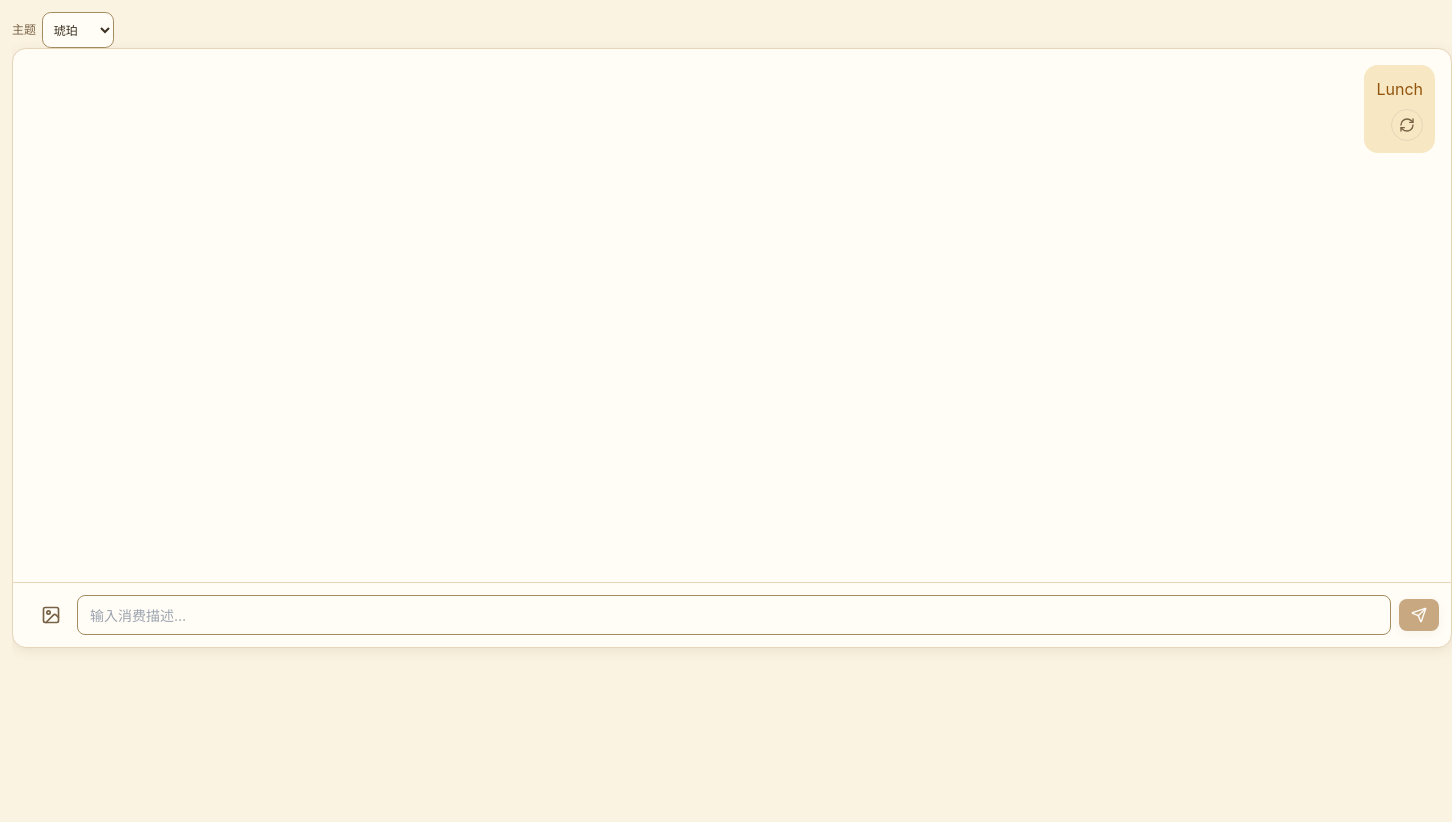
retry uses text model and still requires review confirmation
Click the button named "Retry" at (1407, 125), box [1391, 109, 1423, 141]
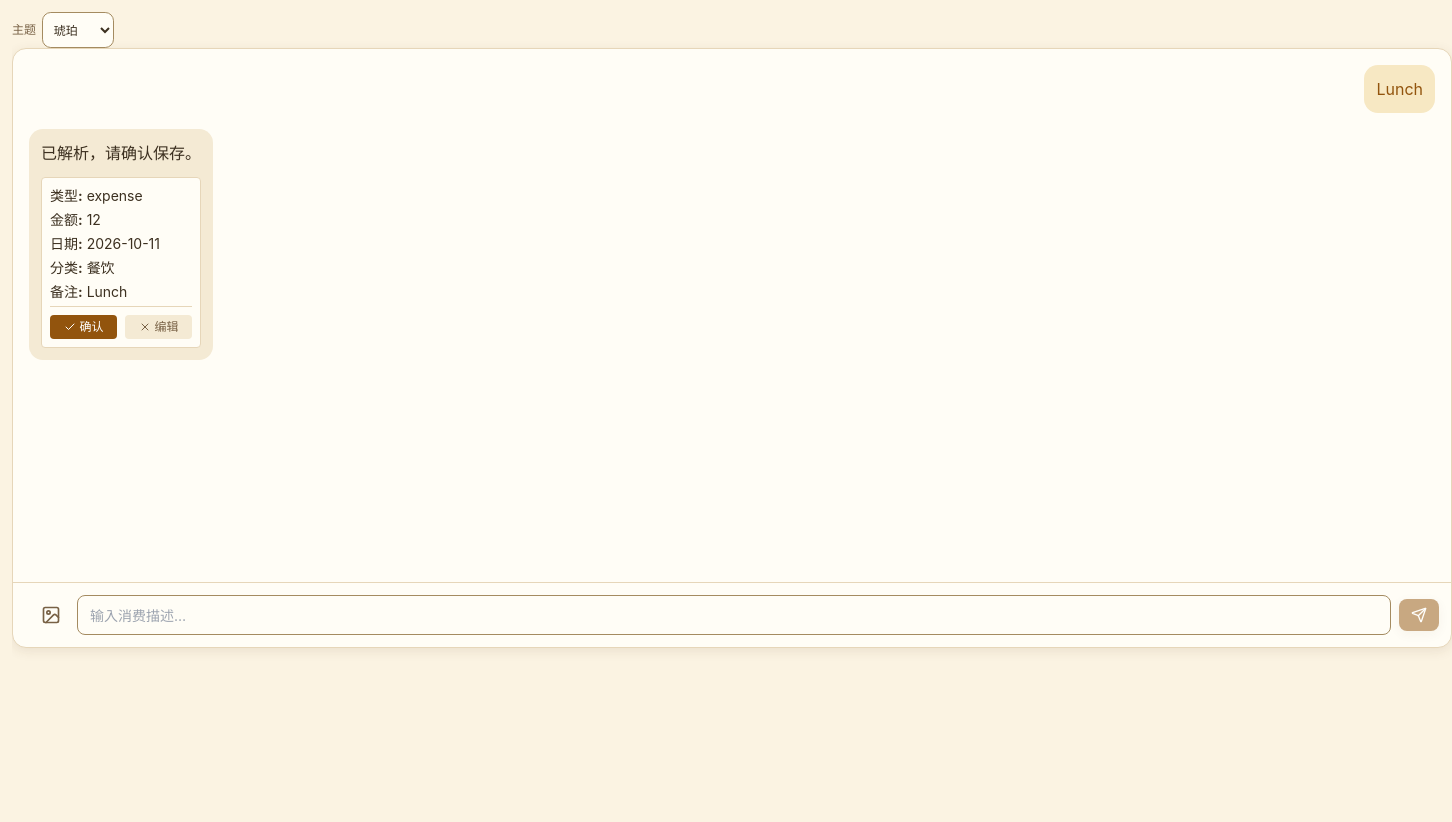
Now the button "确认" is shown, box [50, 315, 117, 339]
